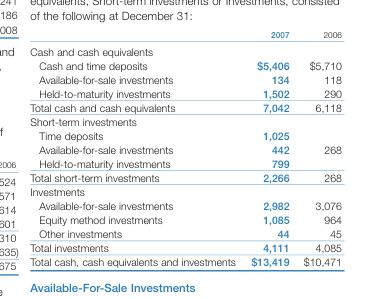table: (29, 28, 340, 267)
table column: (29, 28, 242, 267), (242, 28, 295, 267), (295, 28, 340, 267)
table column header: (29, 28, 340, 41)
table projected row header: (29, 41, 340, 57), (29, 113, 340, 127), (29, 184, 340, 198)
table row: (29, 41, 340, 57), (29, 155, 340, 170), (29, 57, 340, 71), (29, 71, 340, 85), (29, 85, 340, 99), (29, 99, 340, 113), (29, 113, 340, 127), (29, 127, 340, 141), (29, 141, 340, 155), (29, 170, 340, 184), (29, 184, 340, 198), (29, 198, 340, 212), (29, 212, 340, 226), (29, 226, 340, 240), (29, 240, 340, 254), (29, 28, 340, 41), (29, 254, 340, 267)
